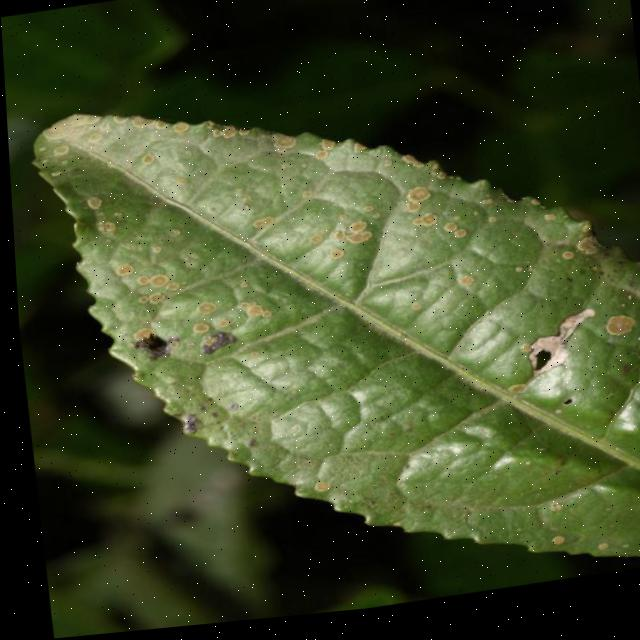Tea algae leaf spot: (69, 51, 629, 498)
